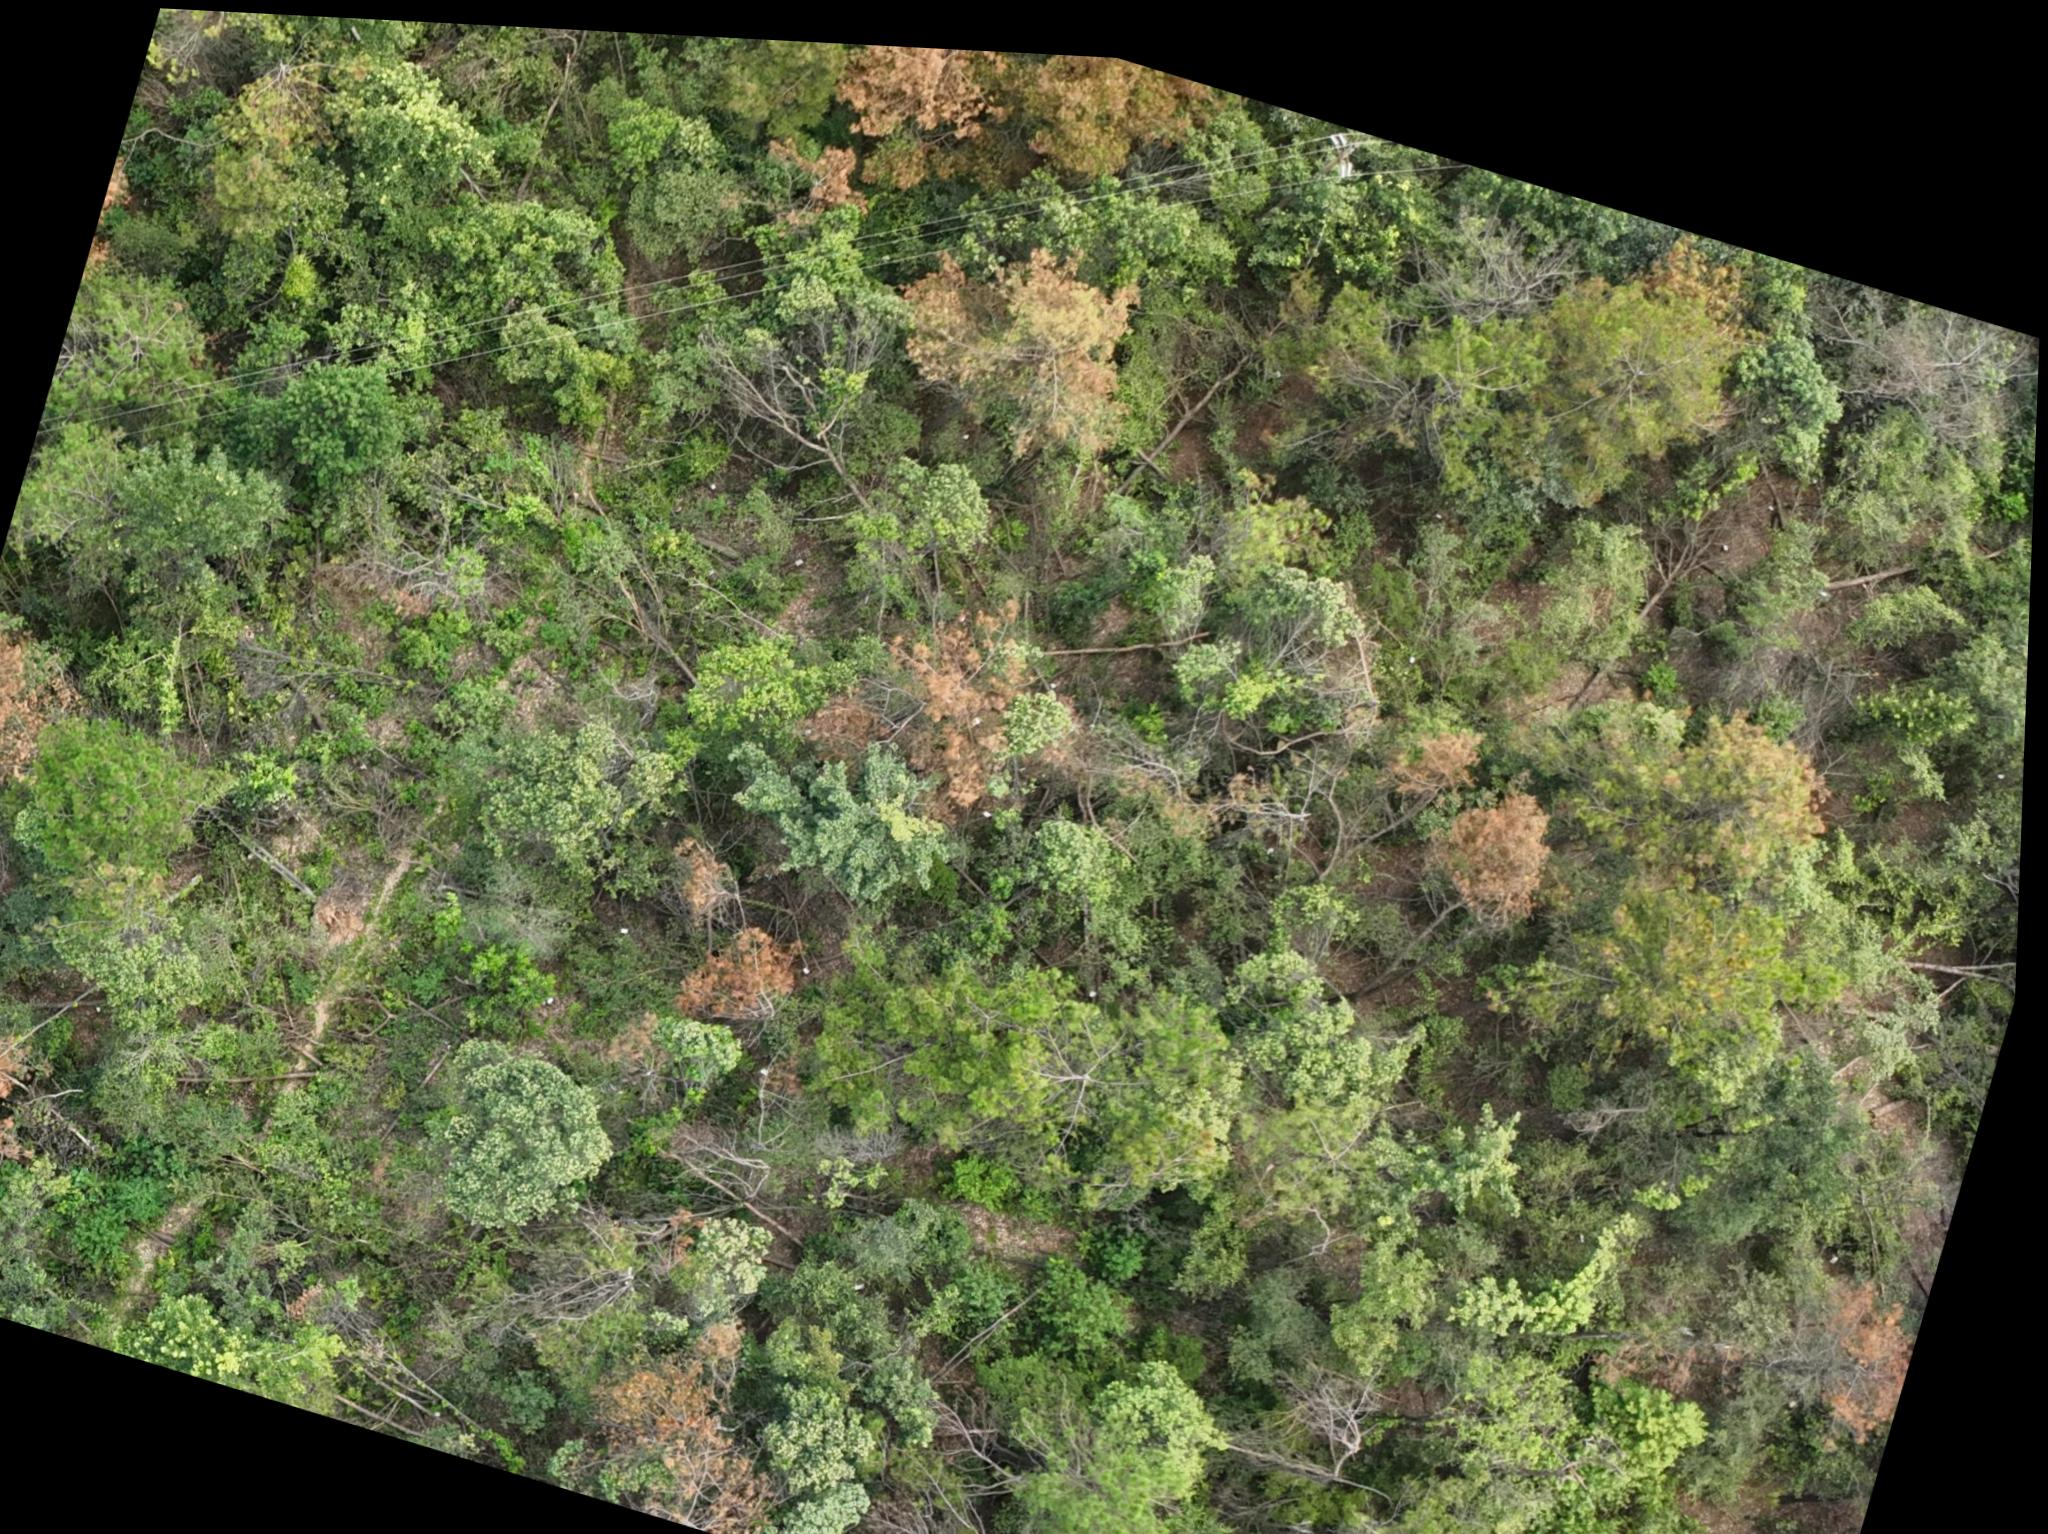dead: (657, 277, 885, 493), (1068, 688, 1325, 849), (1205, 1323, 1421, 1500), (1805, 259, 2029, 429), (1389, 182, 1574, 334), (649, 1109, 828, 1231)
heavy: (781, 546, 1062, 807), (870, 216, 1165, 462), (577, 1299, 827, 1534), (1007, 42, 1199, 185), (804, 32, 1009, 150), (1429, 759, 1558, 910), (1627, 214, 1771, 327), (0, 611, 79, 815), (674, 909, 806, 1022), (0, 1002, 47, 1268)
light: (1529, 846, 1830, 1092), (1574, 659, 1845, 867)
